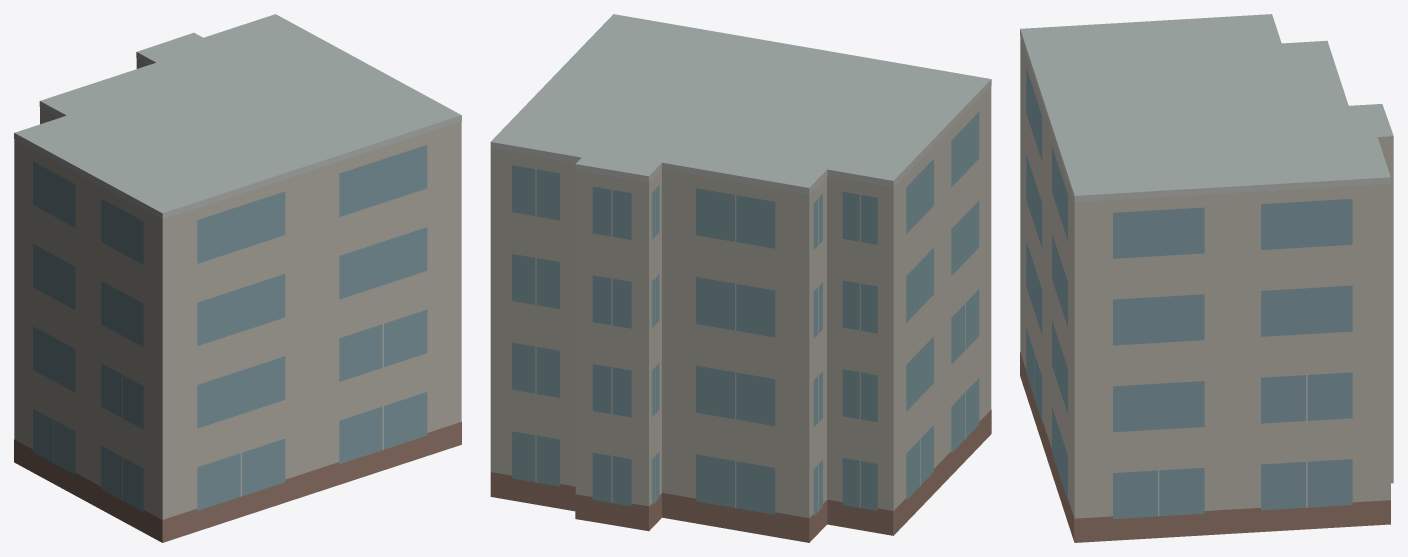
The model's file is survey-upis-32576956.glb.
The picture shows the model from 3 angles, left to right: view 1: azimuth 30°, elevation 25°; view 2: azimuth 150°, elevation 25°; view 3: azimuth 270°, elevation 25°; orthographic projection. The views are drawn at different scales.
Visible parts, largest first — view 1: survey-upis-32576956.tmp; view 2: survey-upis-32576956.tmp; view 3: survey-upis-32576956.tmp.
Part boxes in pixels (left/top/right/bottom): survey-upis-32576956.tmp: left=14, top=14, right=461, bottom=542; survey-upis-32576956.tmp: left=490, top=14, right=991, bottom=542; survey-upis-32576956.tmp: left=1020, top=14, right=1393, bottom=542.
Bounding box in the file's own units: 14.88 × 13.23 × 12.92.
